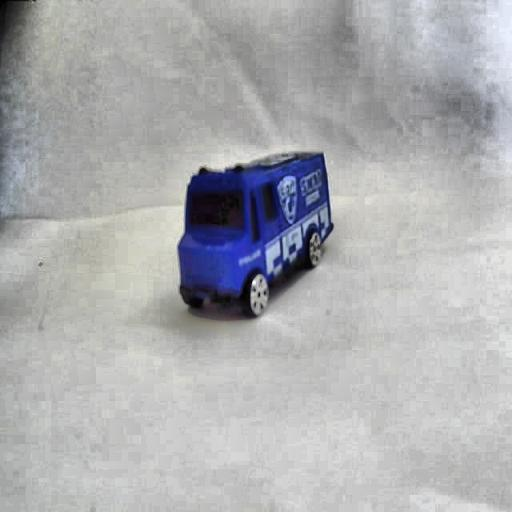police car: (178, 157, 333, 321)
